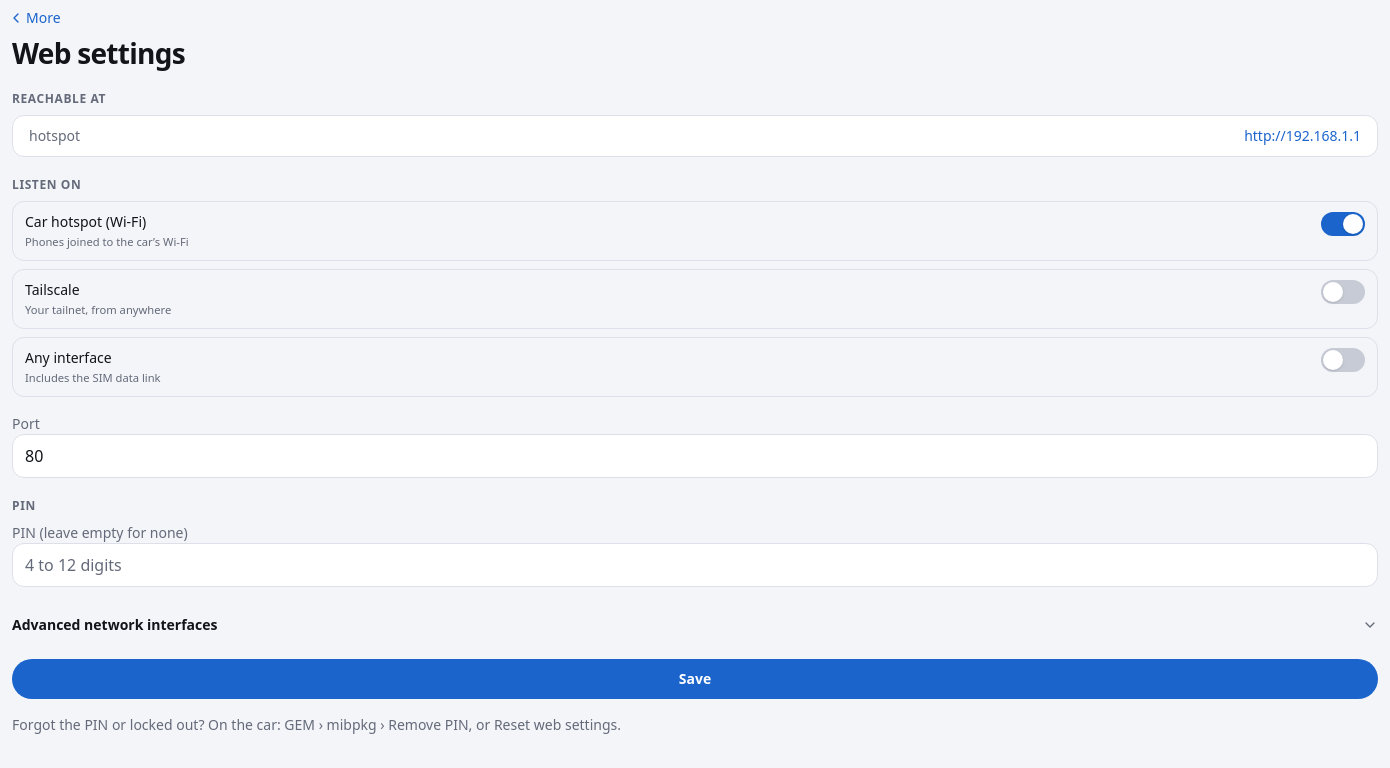
Web settings › keeps the raw interface table folded away when the hotspot is known
Check: the link "http://192.168.1.1" is shown, box [1244,126,1361,146]
Check: the text "uap0" is not shown
Click the button "Advanced network interfaces" at [115, 624], box [12,607,1378,643]
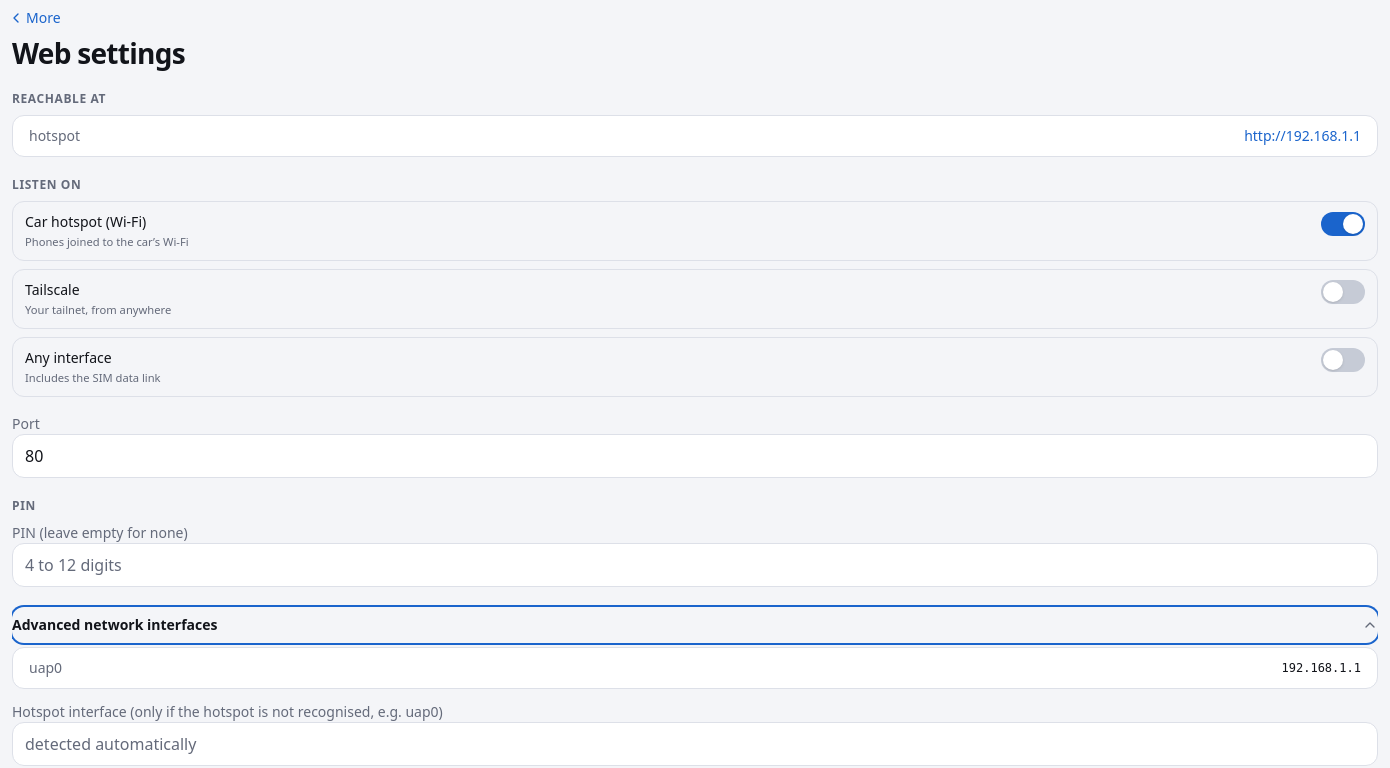
Check: the text "uap0" is shown, box [29,658,62,678]
